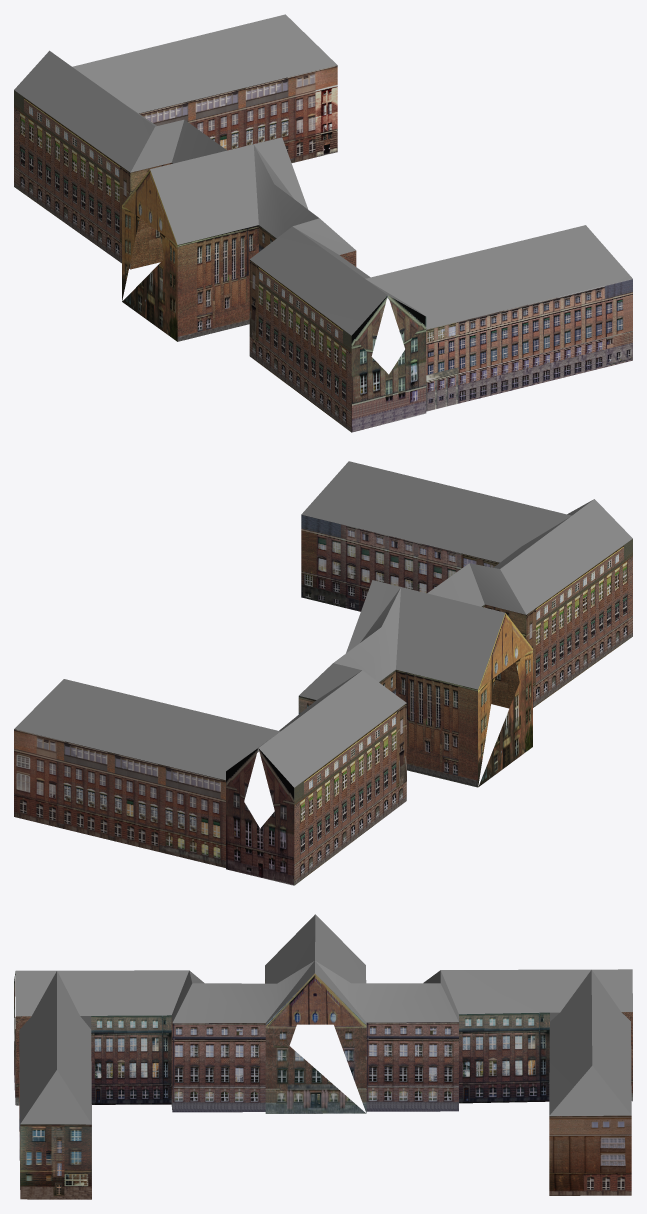
The model's file is Fritz-Foester-Bau.gltf.
The picture shows the model from 3 angles, top to bottom: view 1: azimuth 30°, elevation 25°; view 2: azimuth 150°, elevation 25°; view 3: azimuth 270°, elevation 25°; orthographic projection. The views are drawn at different scales.
Parts seen in each view (by area): view 1: Dach.1; view 2: Dach.1; view 3: Dach.1.
Boxes of the visible parts, x1,y1,x2,y2 form: Dach.1: (14, 14, 632, 432); Dach.1: (14, 461, 632, 885); Dach.1: (14, 914, 632, 1199).
Size of the model in its own units: 67.71 by 30.51 by 122.
21 materials, 20 textured.
